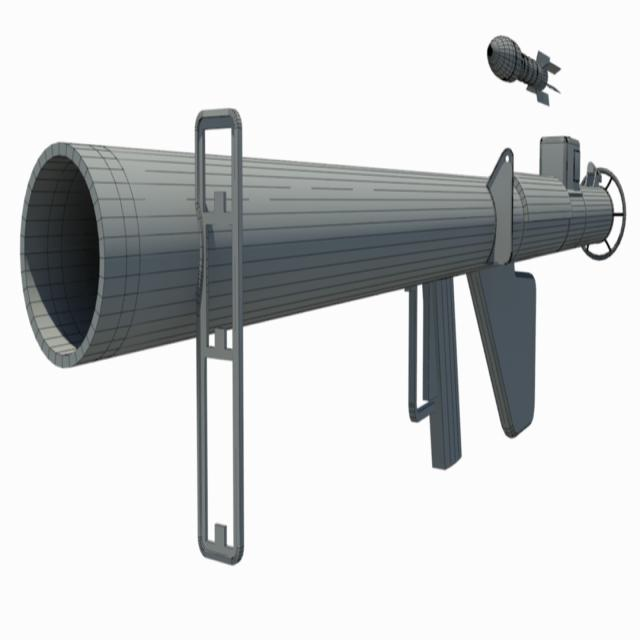Weapon: (19, 106, 630, 571)
